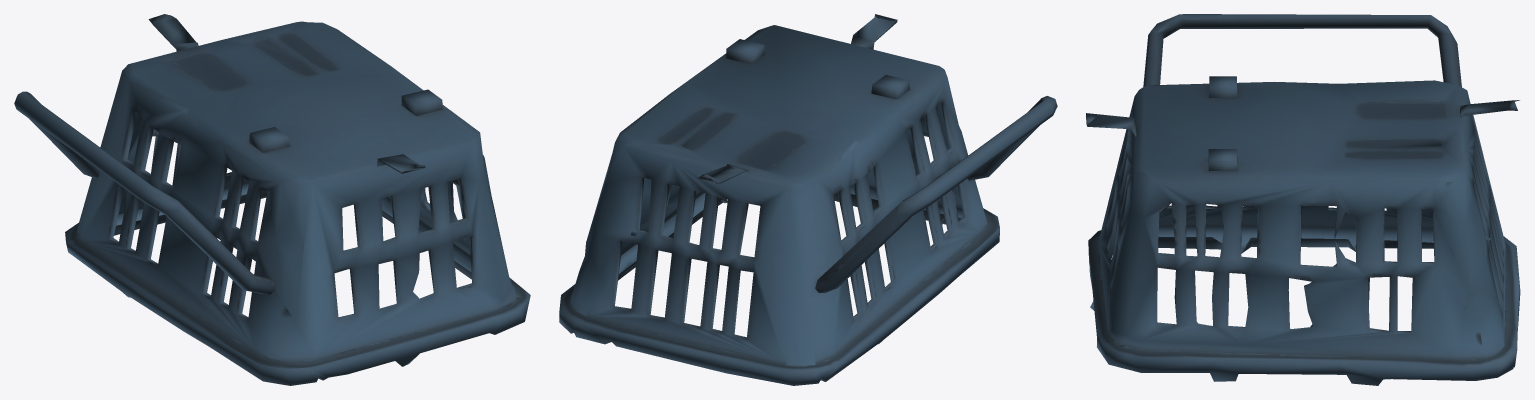
The model's file is hand_basket.glb.
3 views of the same model, side by side, from view 1: azimuth 30°, elevation 25°; view 2: azimuth 150°, elevation 25°; view 3: azimuth 270°, elevation 25° (orthographic). The views are drawn at different scales.
Visible parts, largest first — view 1: hand_basket_LOD0; view 2: hand_basket_LOD0; view 3: hand_basket_LOD0.
Boxes of the visible parts, x1=… form: hand_basket_LOD0: x1=14, y1=14, x2=530, y2=385; hand_basket_LOD0: x1=559, y1=14, x2=1057, y2=385; hand_basket_LOD0: x1=1086, y1=14, x2=1520, y2=385.
Size of what is drawn, in the model's own units: 0.4334 by 0.2315 by 0.45.
Materials: 1 (1 with a texture image).
